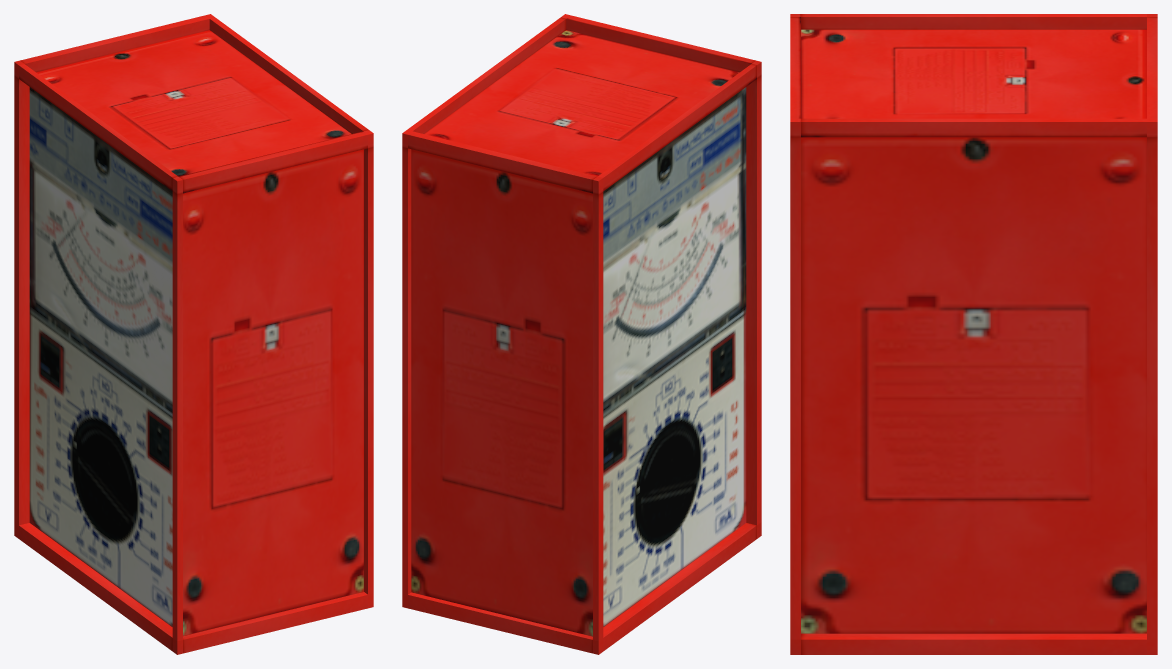
File: meter.FBX
3 views of the same model, side by side, from view 1: azimuth 30°, elevation 25°; view 2: azimuth 150°, elevation 25°; view 3: azimuth 270°, elevation 25° (orthographic). The views are drawn at different scales.
Visible parts, largest first — view 1: Box001; view 2: Box001; view 3: Box001.
Part boxes in pixels (box(x1,y1,x2,y2)): Box001: box(14, 14, 373, 654); Box001: box(402, 14, 761, 654); Box001: box(790, 14, 1157, 654).
Bounding box in the file's own units: 8 × 18.43 × 11.5.
